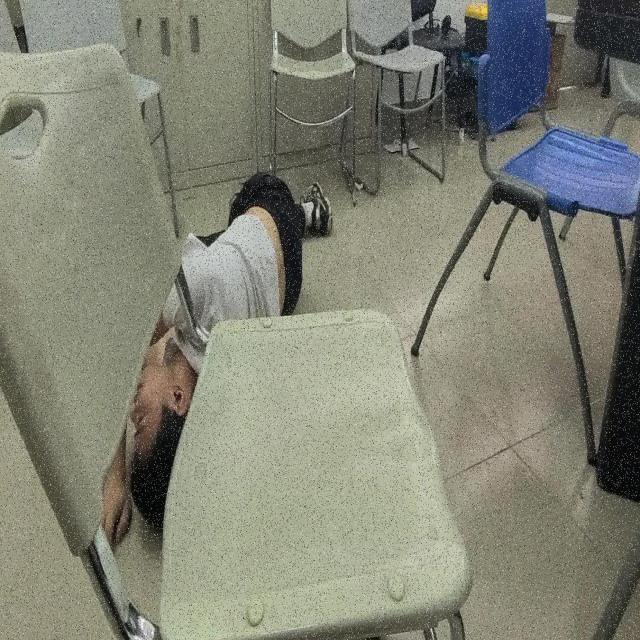fall: (93, 166, 334, 554)
